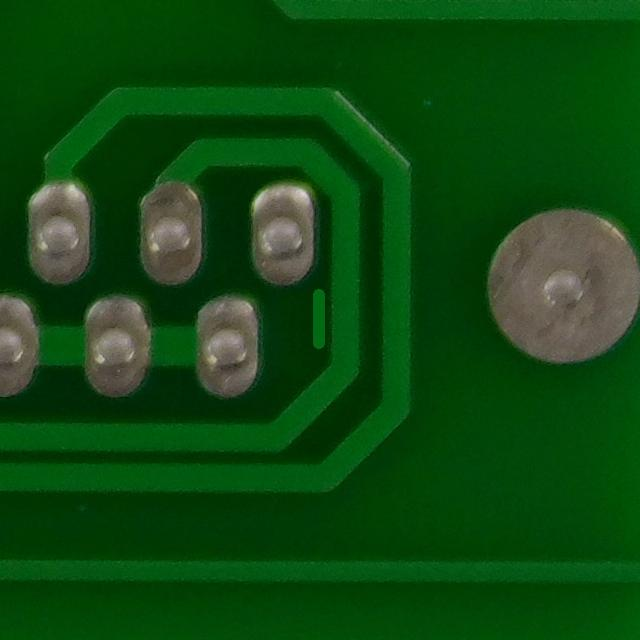spurious_copper: (293, 277, 347, 364)
